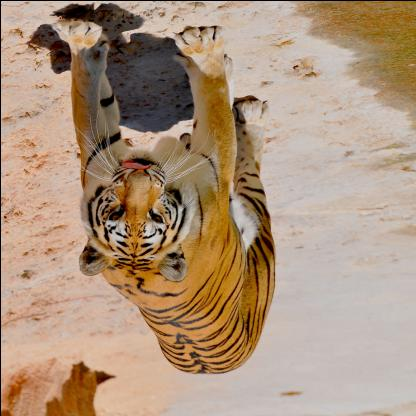tiger: (92, 156, 192, 270)
